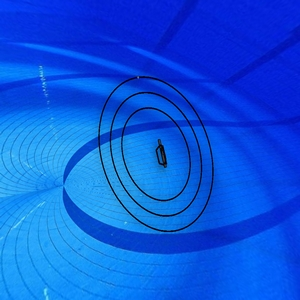circle: (98, 73, 217, 235)
submarine: (153, 135, 171, 172)
